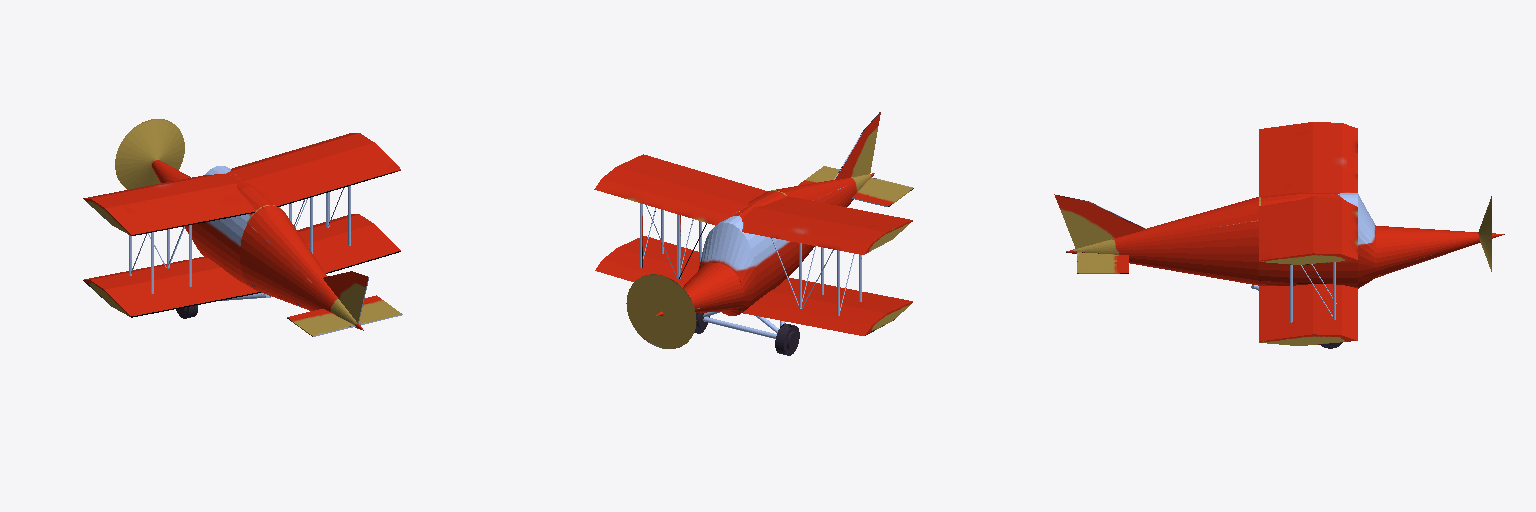
3 views of the same model, side by side, from view 1: azimuth 30°, elevation 25°; view 2: azimuth 150°, elevation 25°; view 3: azimuth 270°, elevation 25° (orthographic).
Visible parts, largest first — view 1: plane_円柱; view 2: plane_円柱; view 3: plane_円柱.
Part boxes in pixels (left/top/right/bottom): plane_円柱: left=83, top=119, right=402, bottom=336; plane_円柱: left=594, top=112, right=913, bottom=355; plane_円柱: left=1054, top=122, right=1504, bottom=348.
Bounding box in the file's own units: 6.01 × 2.91 × 8.7.
1 materials, 1 textured.